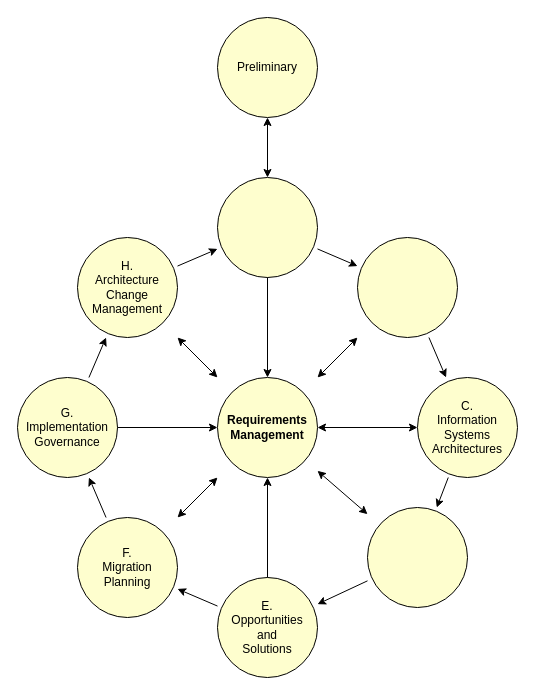
Some shapes in this 535 by 695 pixel diagram are drawn without their labels. Each missing label, with the box of its shape:
A. Architecture Vision: (216, 176, 318, 278)
B. Business Architecture: (356, 236, 458, 338)
D. Technology Architecture: (366, 506, 468, 608)
